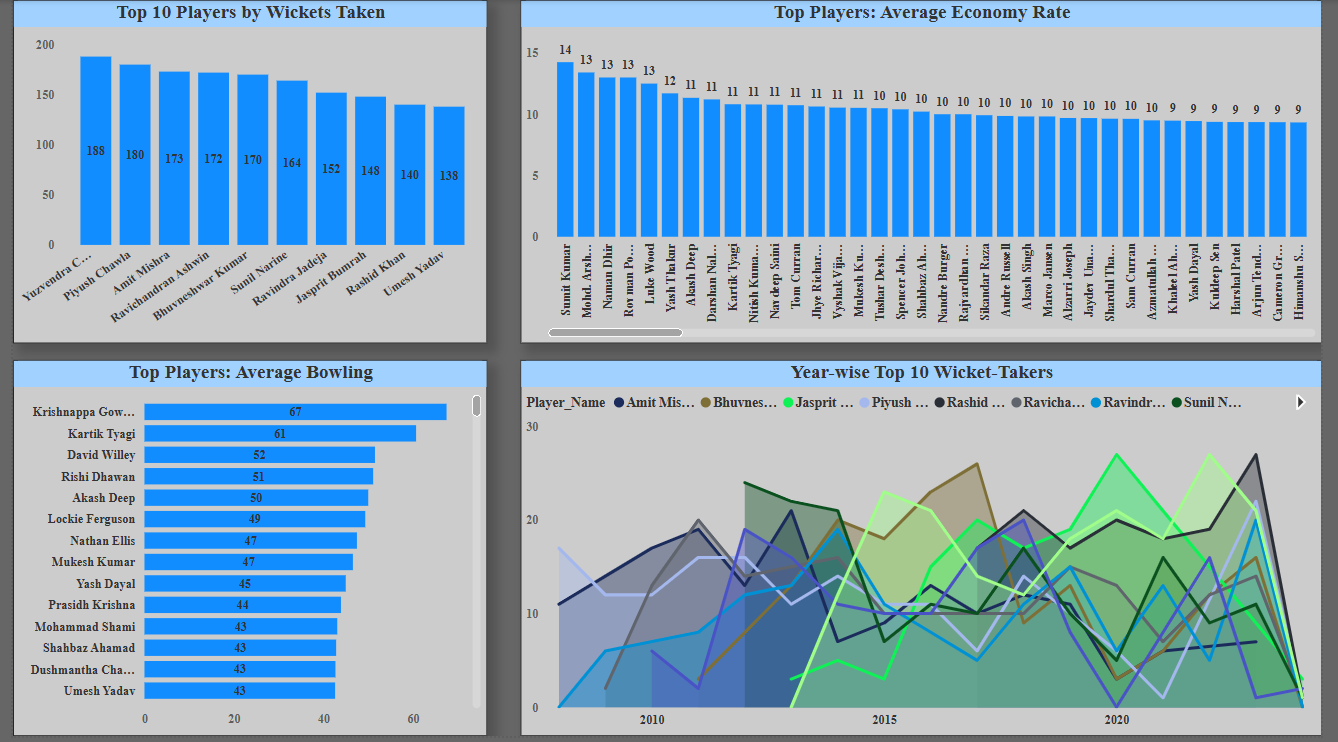

The page's visual inventory and layout, read from the dashboard file:
{"tool":"powerbi","page":{"name":"Bowling","canvas":[1280,720],"ordinal":3},"visuals":[{"type":"columnChart","title":"Top 10 Players by Wickets Taken","fields":{"Category":["cricket_data.Player_Name"],"Y":["Sum(cricket_data.Wickets_Taken)"]},"box":[0,0,464,336],"z":0},{"type":"barChart","title":"Top Players: Average Bowling","fields":{"Category":["cricket_data.Player_Name"],"Y":["Avg(cricket_data.Bowling_Average)"]},"box":[0,352,464,368],"z":1000},{"type":"columnChart","title":"Top Players: Average Economy Rate","fields":{"Category":["cricket_data.Player_Name"],"Y":["Avg(cricket_data.Economy_Rate)"]},"box":[496,0,784,336],"z":2000},{"type":"areaChart","title":"Year-wise Top 10 Wicket-Takers","fields":{"Category":["cricket_data.Year"],"Y":["Sum(cricket_data.Wickets_Taken)"],"Series":["cricket_data.Player_Name"]},"box":[496,352,784,368],"z":3000}]}

Visuals, with their boxes in screenshot pixels (x1, y1, x2, y2), scaled from the page's 1280x720 canvas onto the 1338x742 screenshot:
"Top 10 Players by Wickets Taken" columnChart: 0,0,485,346
"Top Players: Average Bowling" barChart: 0,363,485,741
"Top Players: Average Economy Rate" columnChart: 518,0,1337,346
"Year-wise Top 10 Wicket-Takers" areaChart: 518,363,1337,741
